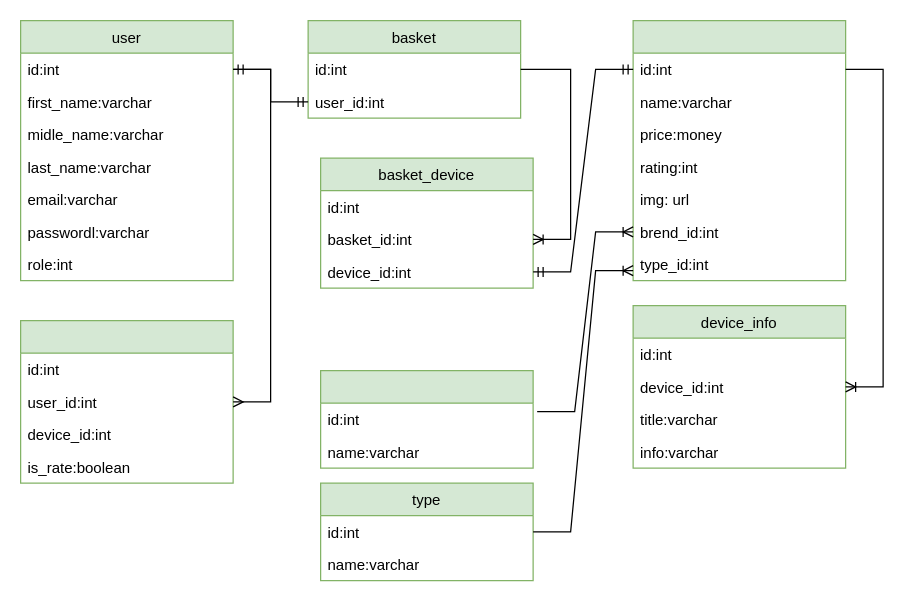
This 904x601 diagram has some shape labels left out. The box of each missing label's shape, as (x1, y1, x2, y2) in pixels:
brand: (319, 369, 533, 468)
device: (632, 19, 846, 281)
rating: (19, 319, 233, 483)
